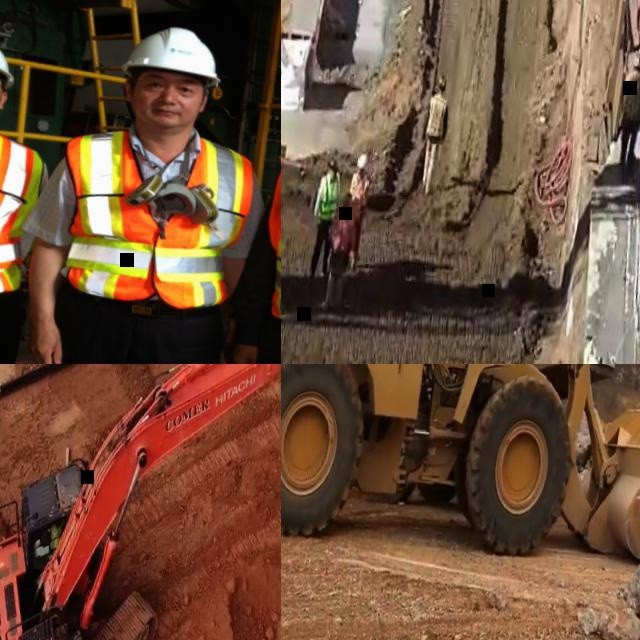Hardhat: (119, 21, 232, 86), (355, 153, 369, 169), (435, 75, 447, 90), (327, 157, 339, 171), (631, 56, 640, 67)
NO-Mask: (138, 100, 194, 132)
Person: (0, 5, 281, 364), (202, 0, 281, 364), (0, 10, 73, 364), (317, 191, 366, 312), (305, 155, 345, 284), (417, 72, 453, 198), (340, 152, 372, 272), (614, 55, 640, 167), (48, 517, 64, 554)
Safety Vest: (45, 122, 259, 316), (0, 116, 46, 318), (330, 209, 355, 254), (318, 175, 342, 220), (425, 95, 447, 137), (349, 173, 369, 202), (50, 527, 62, 549)
machinery: (281, 364, 640, 593), (0, 364, 281, 640)
